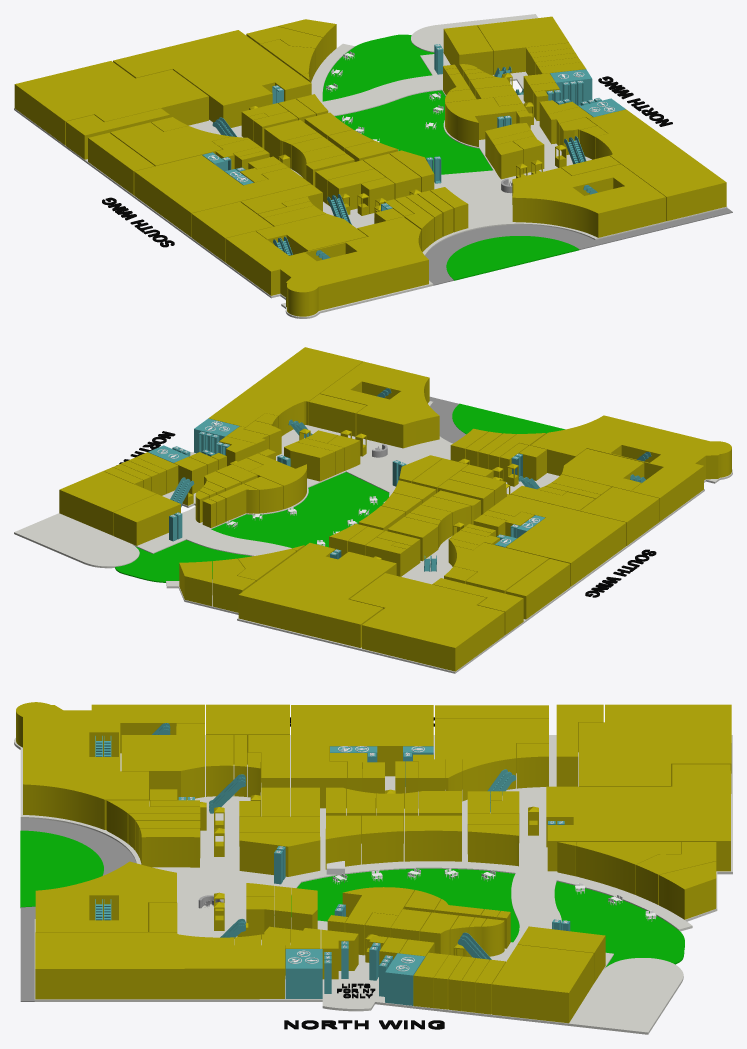
Rendered from floor-0.glb.
3 renders of one model, top to bottom at view 1: azimuth 30°, elevation 25°; view 2: azimuth 150°, elevation 25°; view 3: azimuth 270°, elevation 25°, orthographic. The views are drawn at different scales.
Parts seen in each view (by area): view 1: Ground floor; view 2: Ground floor; view 3: Ground floor.
Boxes of the visible parts, x1,y1,x2,y2 form: Ground floor: (14, 14, 732, 318); Ground floor: (14, 347, 732, 673); Ground floor: (14, 702, 732, 1034).
Bounding box in the file's own units: 81.45 × 7.57 × 78.43.
